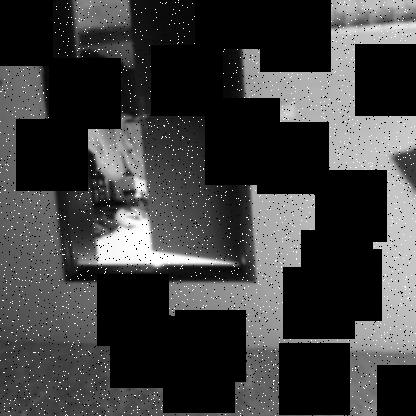Porte: (30, 1, 258, 284)
